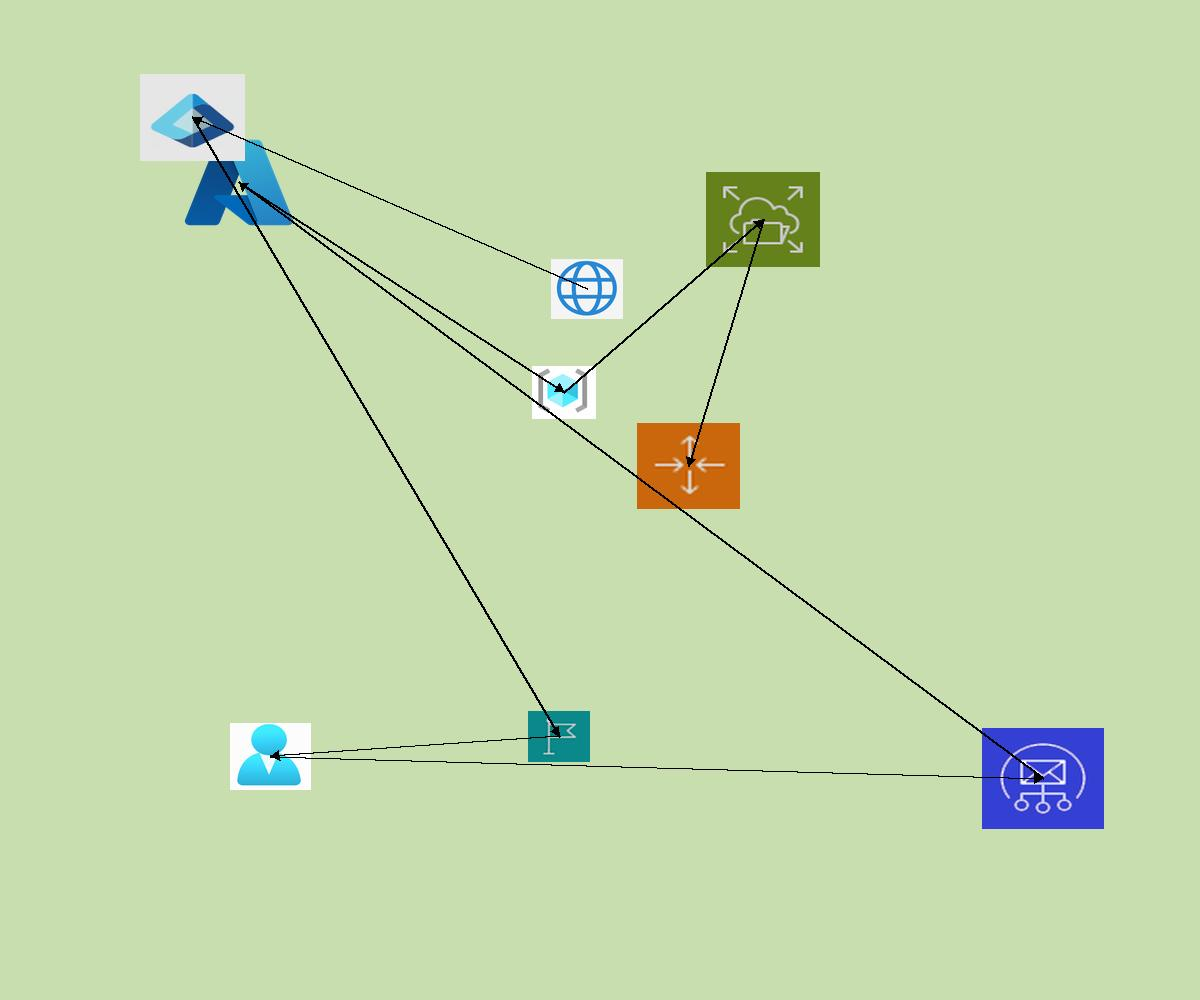AWS-EFS: (706, 172, 820, 267)
AWS-Region: (528, 711, 590, 762)
AWS-Scaling-group: (637, 423, 740, 509)
AWS-Simple-Email-Service: (982, 728, 1104, 829)
Azure_http: (551, 259, 623, 319)
Azure_microsoft_entra: (140, 74, 245, 161)
Azure_resource_group: (532, 366, 596, 419)
Azure_services: (180, 133, 298, 232)
Azure_users: (230, 723, 311, 790)
